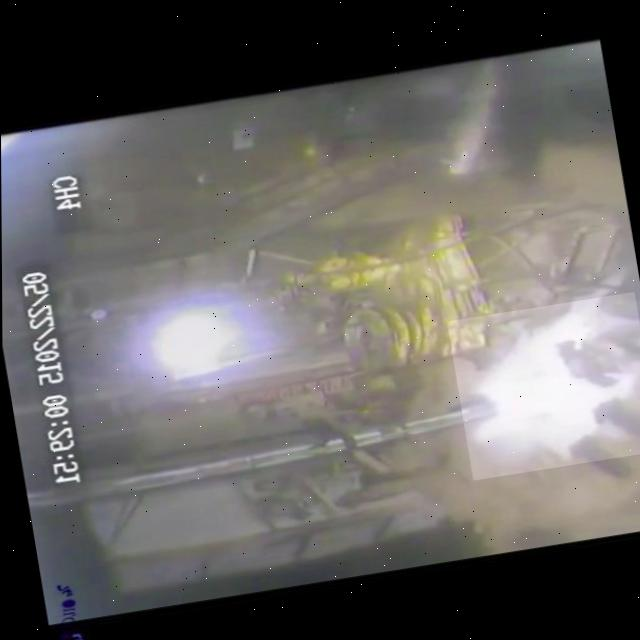spillage: (447, 291, 640, 479)
